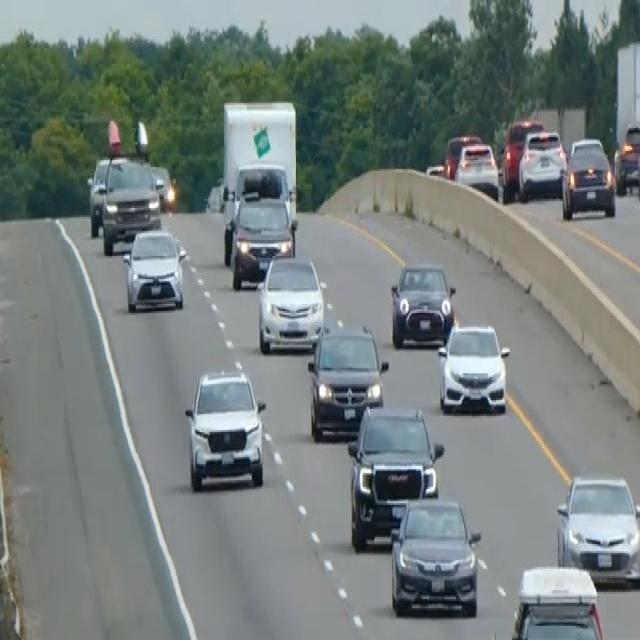car: (346, 400, 444, 549), (388, 494, 481, 617), (306, 320, 388, 441), (555, 471, 639, 580), (509, 562, 605, 638), (256, 250, 325, 354), (436, 320, 510, 414), (229, 194, 296, 288), (389, 260, 456, 348), (122, 226, 185, 313), (560, 135, 616, 221), (517, 128, 567, 201), (500, 116, 544, 192), (454, 141, 499, 199), (86, 154, 110, 236), (613, 121, 639, 194), (443, 132, 481, 180), (149, 162, 174, 210)
jeep: (182, 362, 268, 492), (98, 116, 162, 256)
truck: (219, 96, 299, 286)
